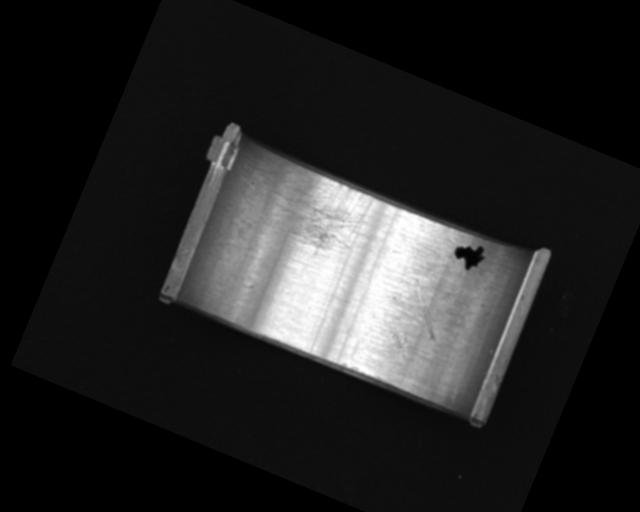blot: (448, 236, 490, 276)
bruise: (385, 329, 415, 359)
nick: (398, 278, 454, 340)
scratch: (240, 152, 377, 270)
